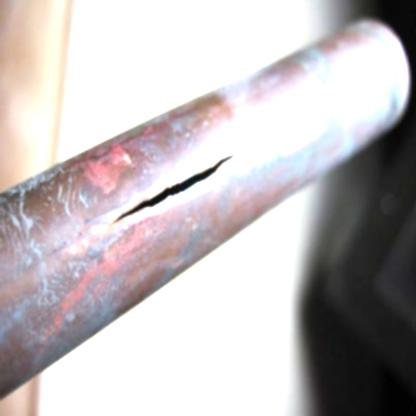burst: (113, 159, 237, 230)
